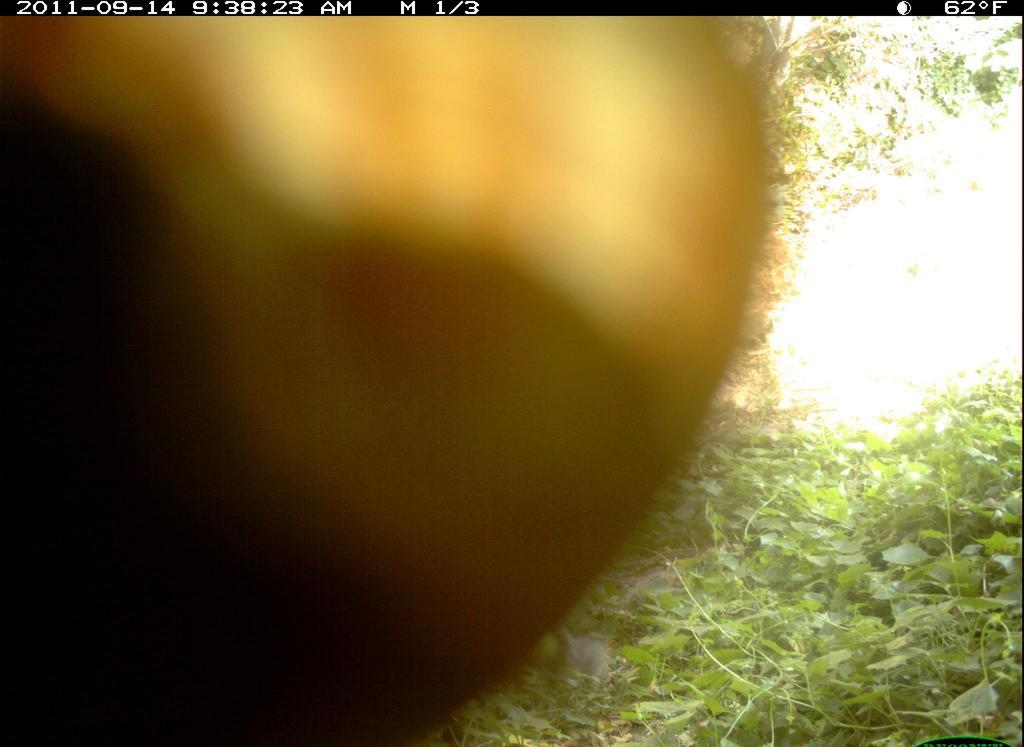squirrel: (540, 614, 628, 702)
